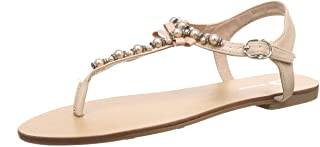shoes: (15, 1, 320, 145)
